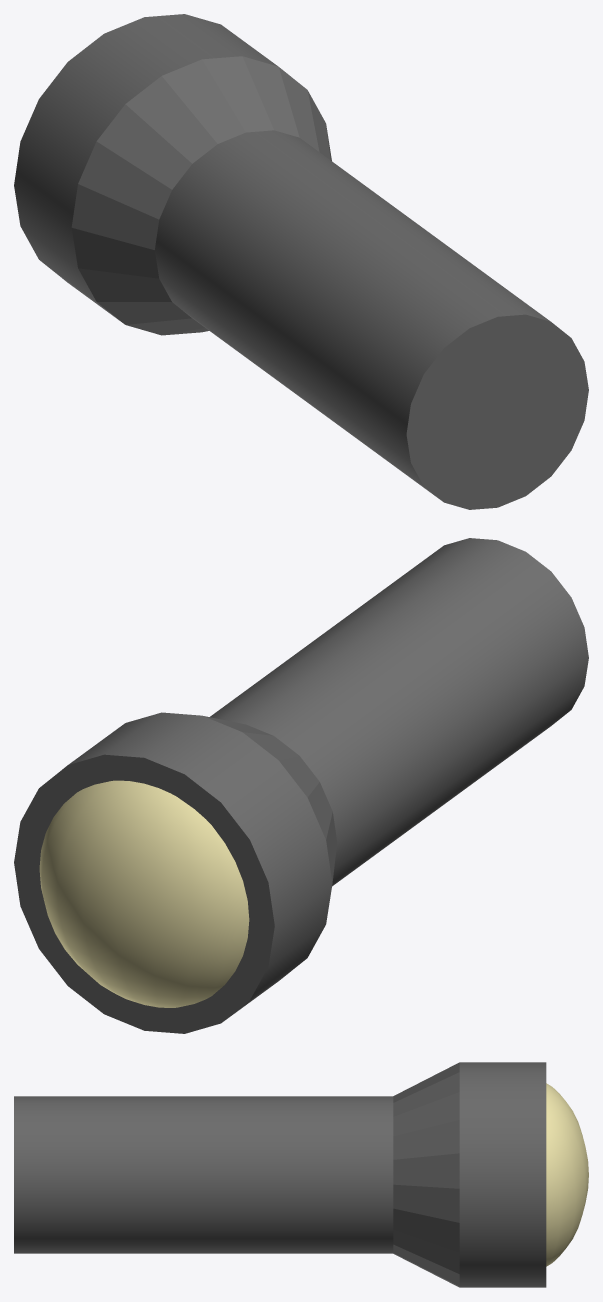
The model's file is flashlight.fbx.
3 views of the same model, one above another, from view 1: azimuth 30°, elevation 25°; view 2: azimuth 150°, elevation 25°; view 3: azimuth 270°, elevation 25° (orthographic). The views are drawn at different scales.
Visible parts, largest first — view 1: pCylinder1; view 2: pCylinder1, pSphere1; view 3: pCylinder1, pSphere1.
Part boxes in pixels (box(x1,y1,x2,y2)): pCylinder1: box(14, 14, 588, 509); pCylinder1: box(14, 538, 588, 1033); pSphere1: box(39, 780, 249, 1007); pCylinder1: box(14, 1062, 546, 1287); pSphere1: box(546, 1083, 588, 1266).
Size of the model in its own units: 3.87 by 3.87 by 9.81.
